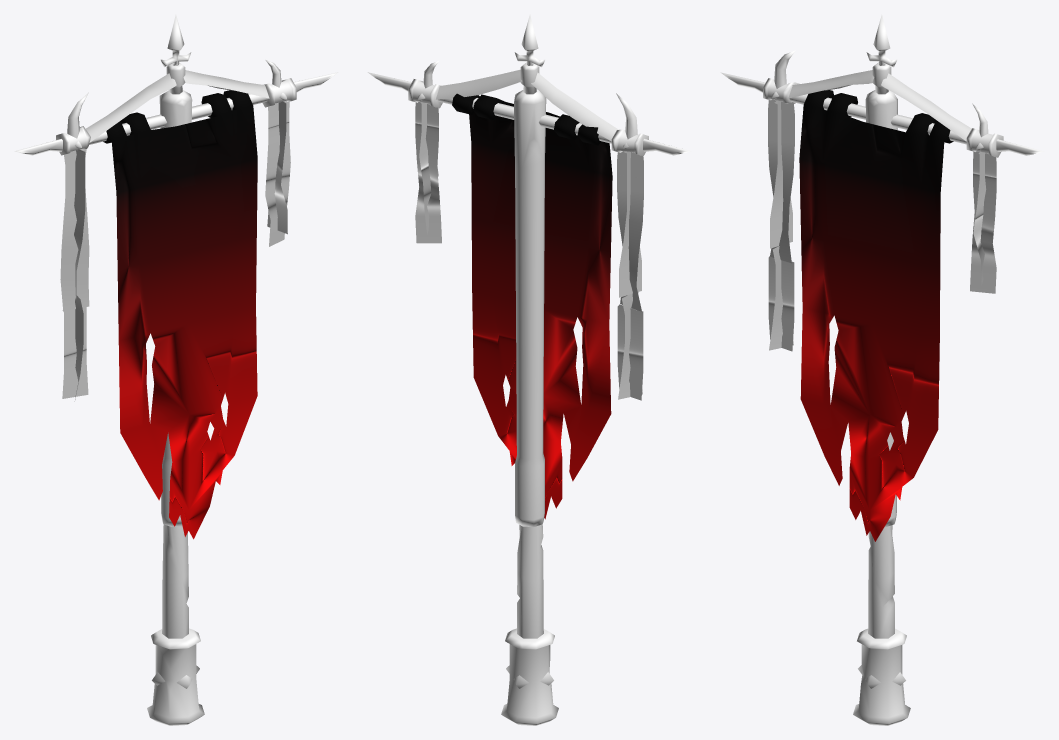
Rendered from SM_Prop_Banner_05.fbx.
The picture shows the model from 3 angles, left to right: view 1: azimuth 30°, elevation 25°; view 2: azimuth 150°, elevation 25°; view 3: azimuth 330°, elevation 25°; orthographic projection.
Parts seen in each view (by area): view 1: SM_Prop_Banner_05_Flag, SM_Prop_Banner_05; view 2: SM_Prop_Banner_05_Flag, SM_Prop_Banner_05; view 3: SM_Prop_Banner_05_Flag, SM_Prop_Banner_05.
Boxes of the visible parts, <box> form: SM_Prop_Banner_05_Flag: <box>103,90,257,539</box>; SM_Prop_Banner_05: <box>14,14,338,725</box>; SM_Prop_Banner_05_Flag: <box>452,93,612,519</box>; SM_Prop_Banner_05: <box>367,14,691,725</box>; SM_Prop_Banner_05_Flag: <box>799,90,953,541</box>; SM_Prop_Banner_05: <box>720,14,1044,725</box>.
Bounding box in the file's own units: 212 × 438 × 33.91.
